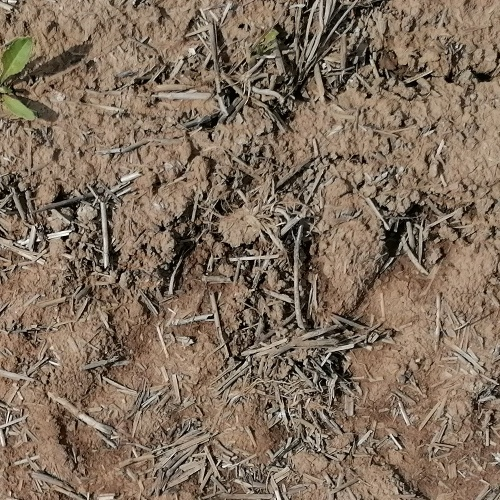beet: (0, 35, 36, 124)
